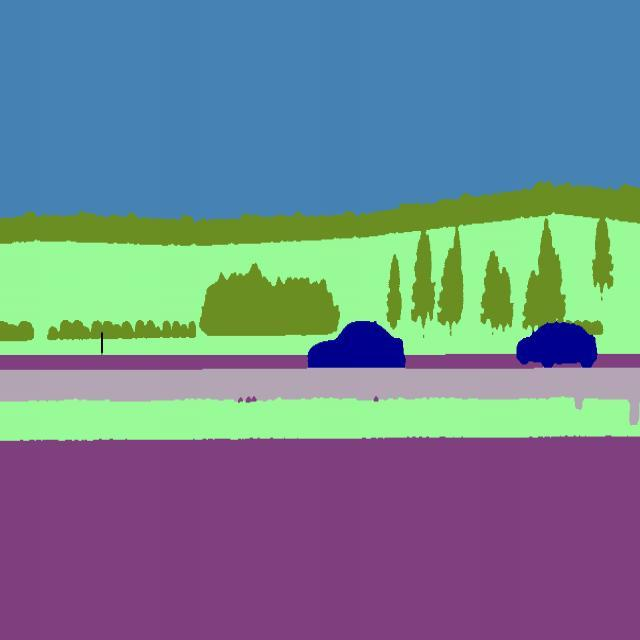safe: (306, 320, 406, 374), (516, 320, 598, 372)
